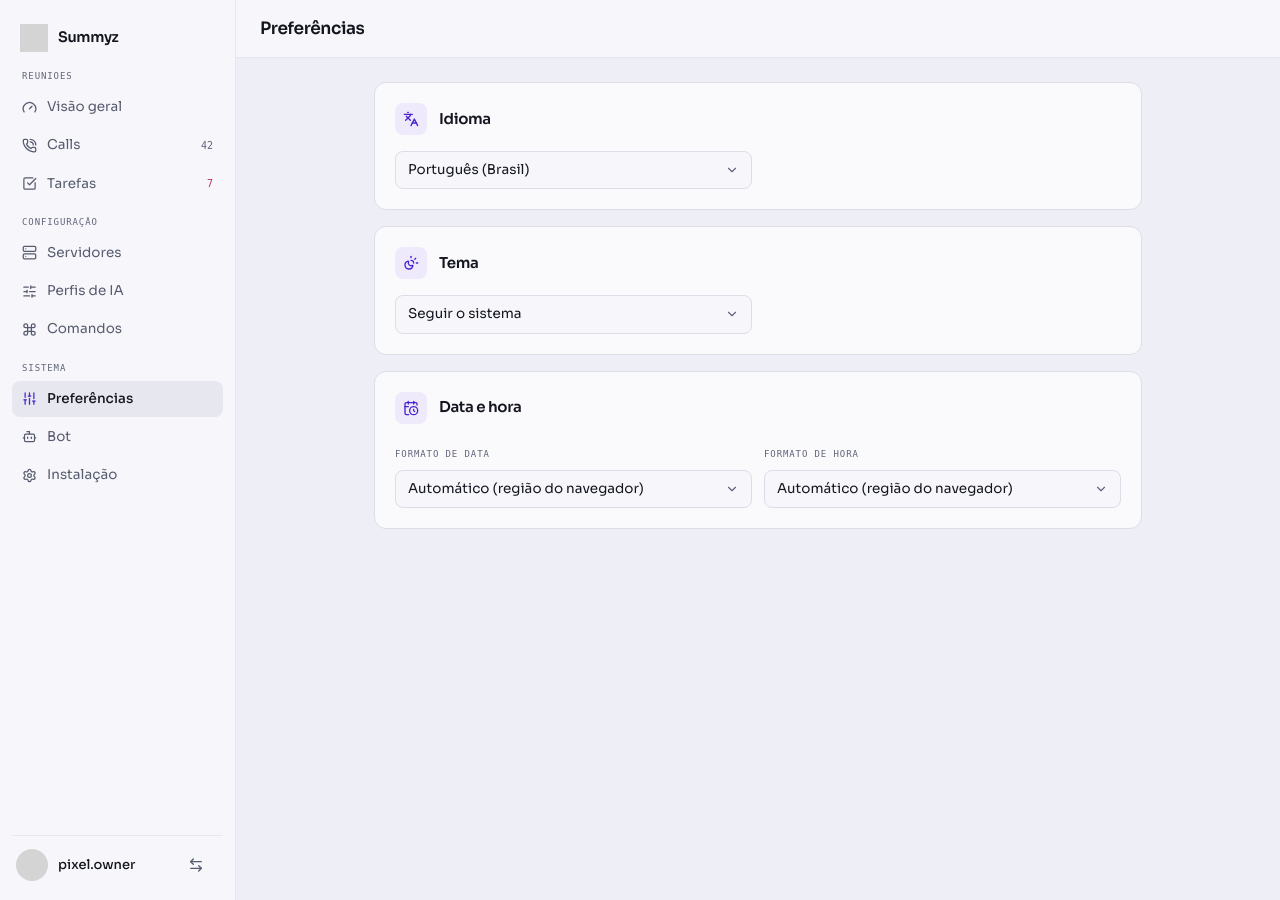
App › loads the next screen when the sidebar navigates
Expected: the heading "Preferências" is shown, [260, 16, 364, 41]
Click the link "Comandos" at [72, 329], box [22, 320, 122, 337]
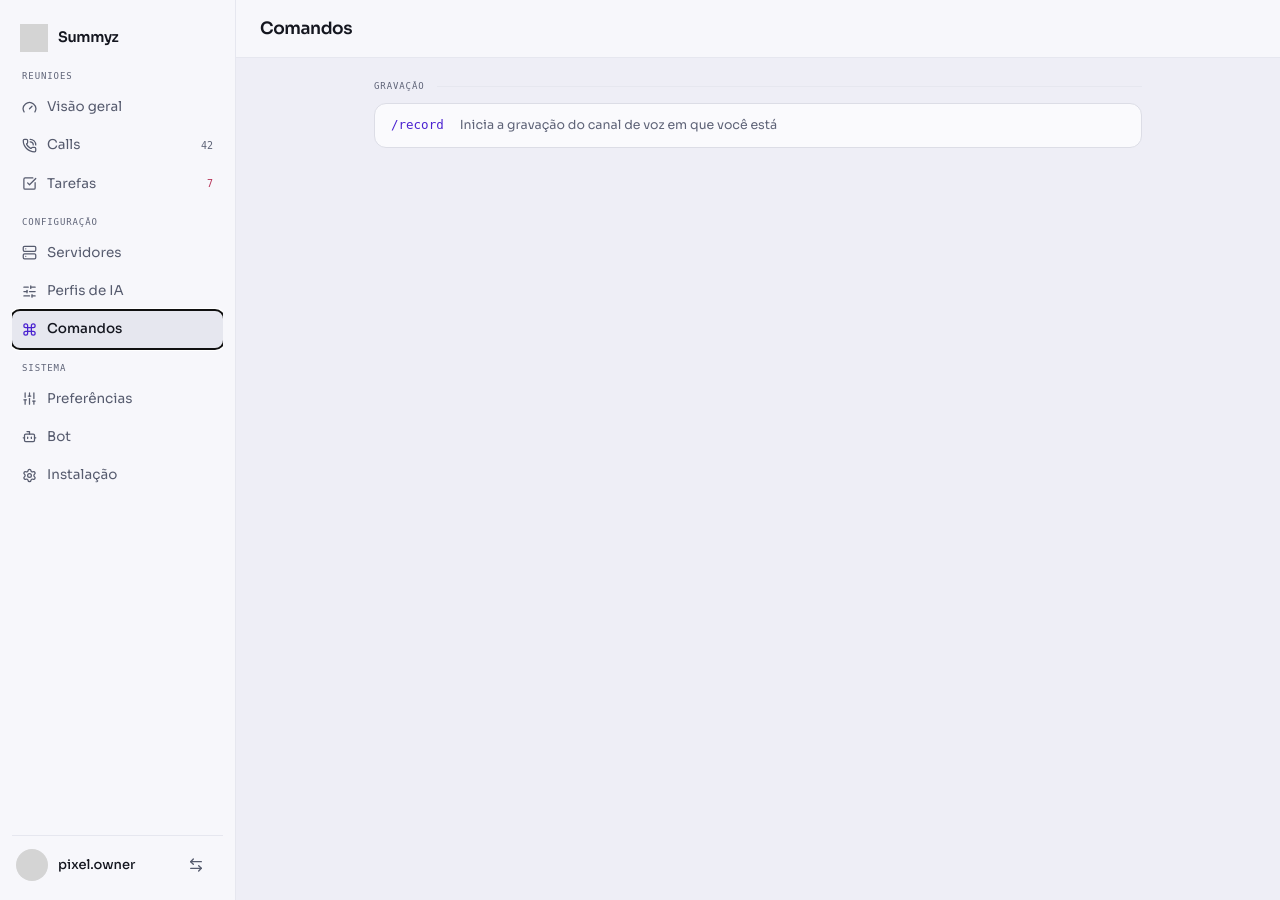
Expected: the heading "Comandos" is shown, [260, 16, 352, 41]
